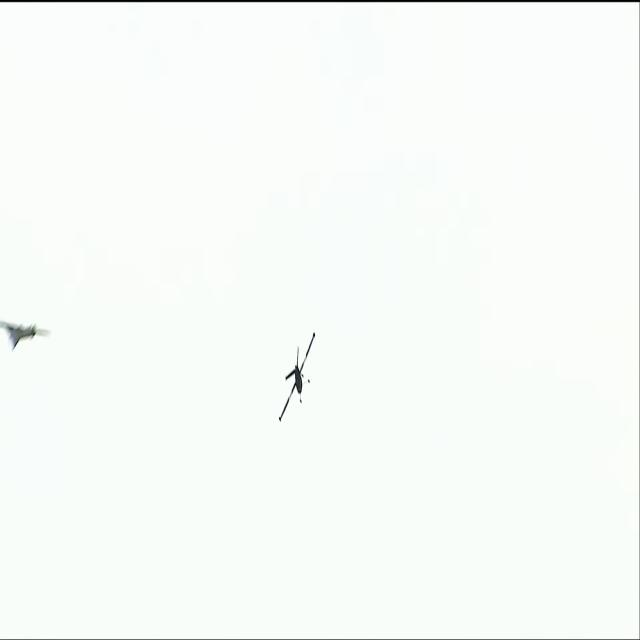iha: (278, 363, 317, 393)
